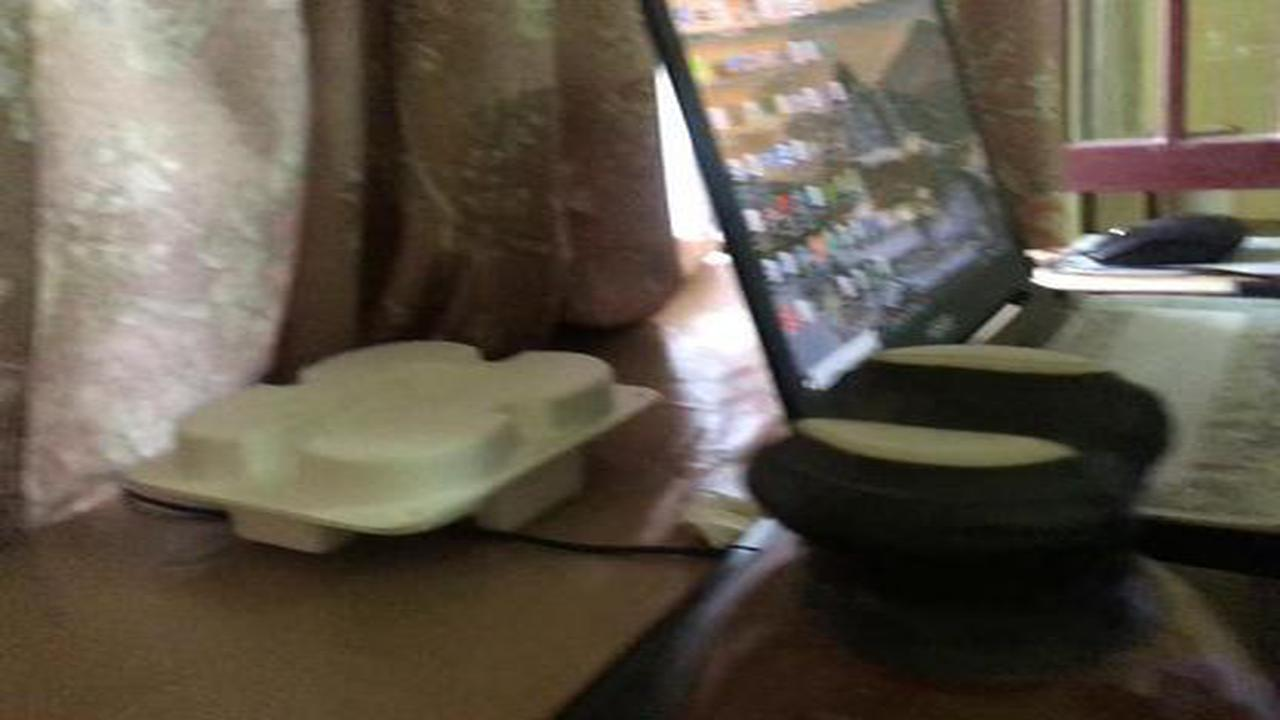insulator_pin: (681, 331, 1274, 717)
